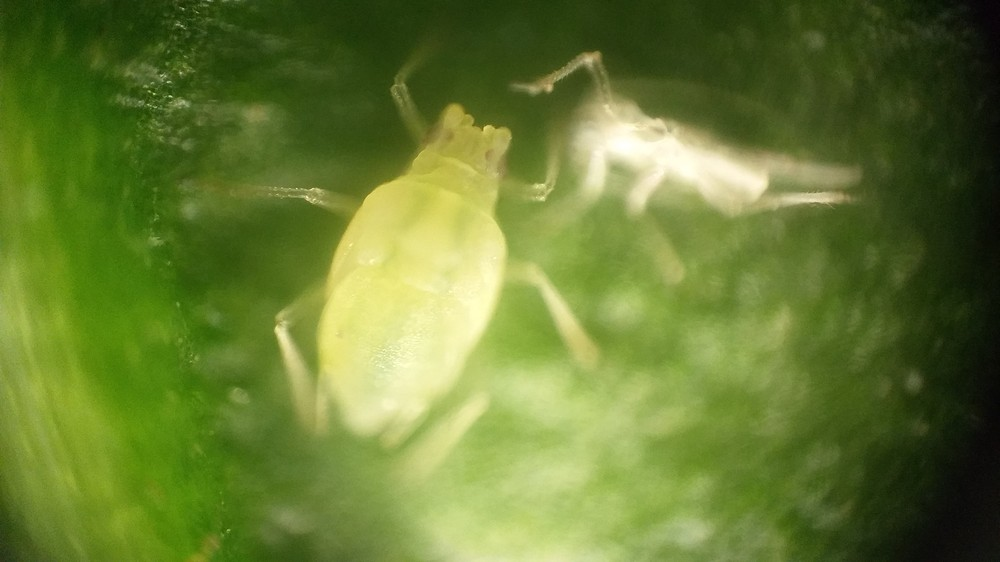Pulgon: (236, 56, 622, 495)
